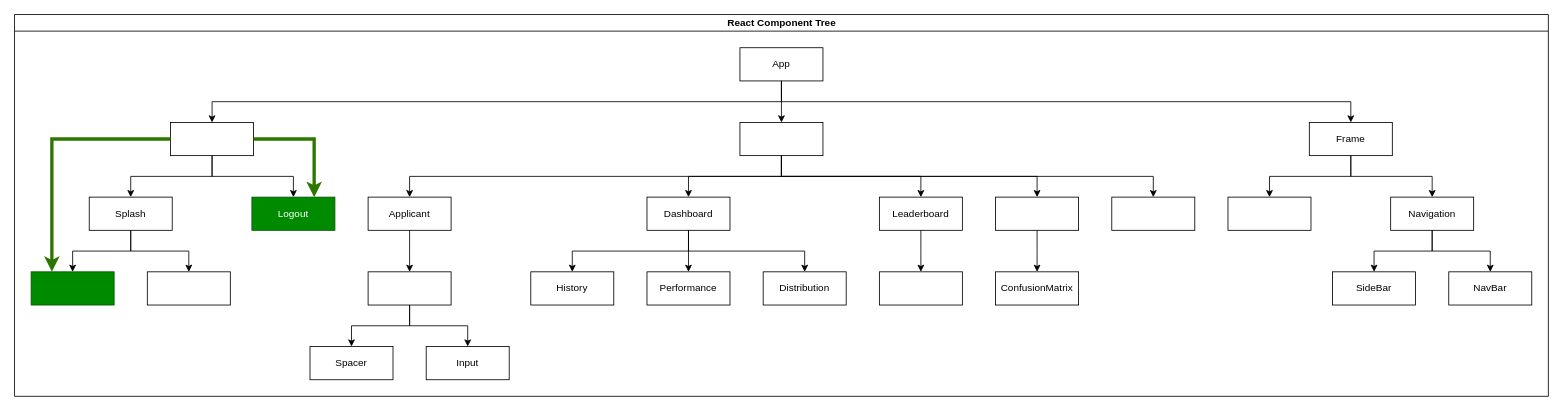
This 1563x411 diagram has some shape labels left out. Each missing label, with the centre of its shape:
About: point (1153, 213)
Authentication: point (212, 139)
Form: point (409, 288)
Login: point (72, 288)
Main: point (781, 139)
Model: point (1037, 213)
ProfileModal: point (920, 288)
Register: point (188, 288)
Tab: point (1269, 213)
